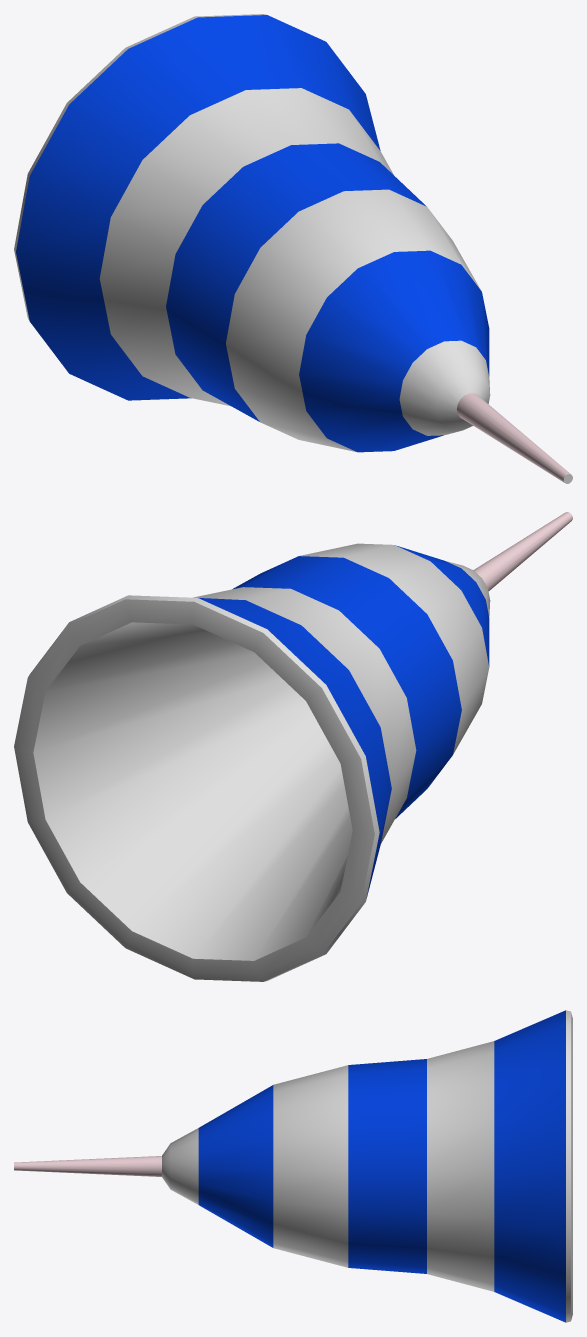
The model's file is stozek_3.fbx.
3 renders of one model, top to bottom at view 1: azimuth 30°, elevation 25°; view 2: azimuth 150°, elevation 25°; view 3: azimuth 270°, elevation 25°, orthographic. The views are drawn at different scales.
Parts seen in each view (by area): view 1: Cylinder.002; view 2: Cylinder.002; view 3: Cylinder.002.
Part boxes in pixels (<box>): Cylinder.002: <box>14,14,572,483</box>; Cylinder.002: <box>14,512,572,981</box>; Cylinder.002: <box>14,1010,572,1322</box>.
Size of the model in its own units: 115 by 115 by 206.
